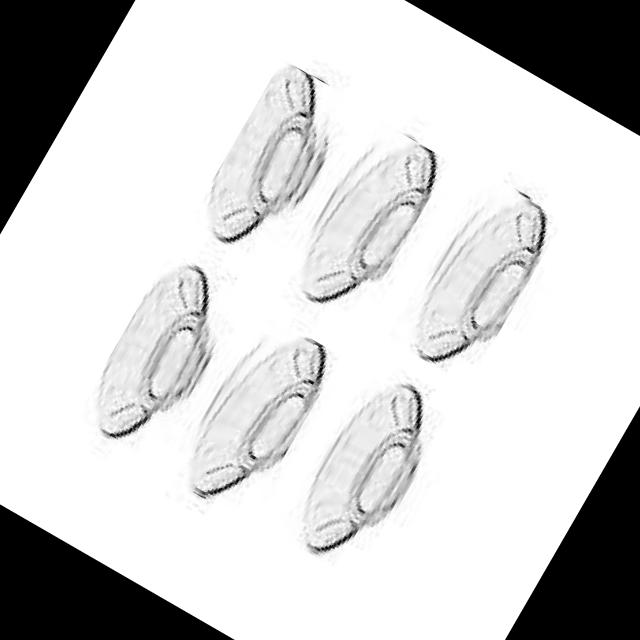Glass: (71, 250, 251, 469), (165, 309, 342, 524), (278, 364, 454, 579), (390, 171, 566, 385), (186, 58, 362, 270), (277, 116, 451, 328)
